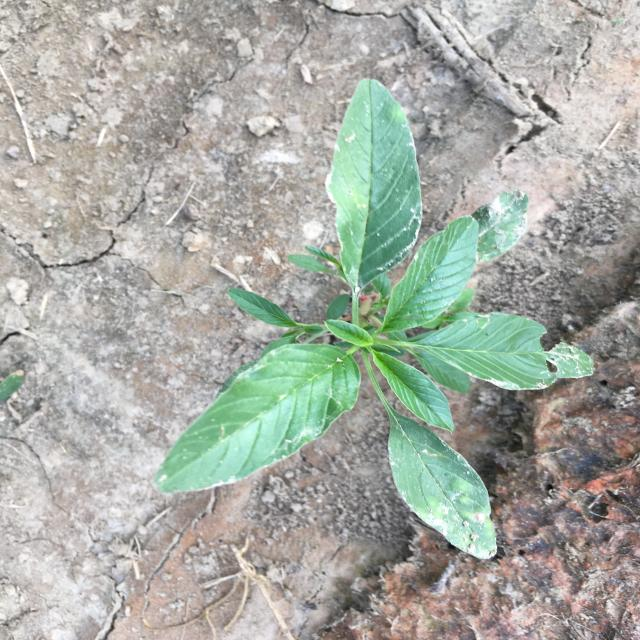Waterhemp: (153, 79, 594, 560)
